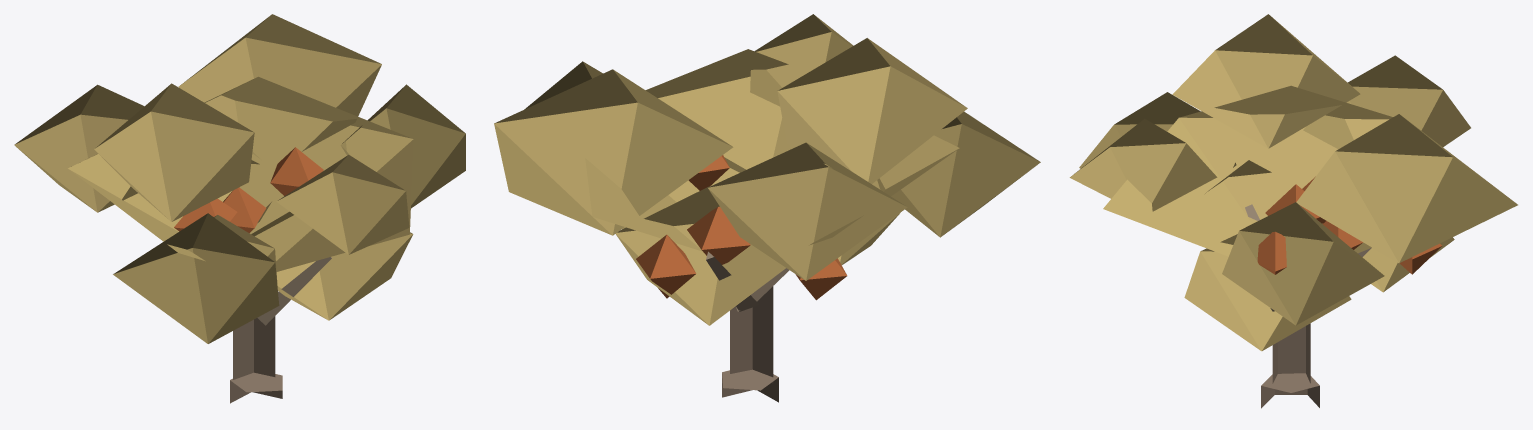
Rendered from tree.sub.citrus__autumn.glb.
3 renders of one model, left to right at view 1: azimuth 30°, elevation 25°; view 2: azimuth 150°, elevation 25°; view 3: azimuth 270°, elevation 25°, orthographic. The views are drawn at different scales.
Visible parts, largest first — view 1: tree.sub.citrus__autumn; view 2: tree.sub.citrus__autumn; view 3: tree.sub.citrus__autumn.
Boxes of the visible parts, <box> form: tree.sub.citrus__autumn: <box>14,14,465,403</box>; tree.sub.citrus__autumn: <box>494,14,1040,402</box>; tree.sub.citrus__autumn: <box>1069,14,1517,408</box>.
Size of the model in its own units: 5.84 by 5.06 by 5.98.
